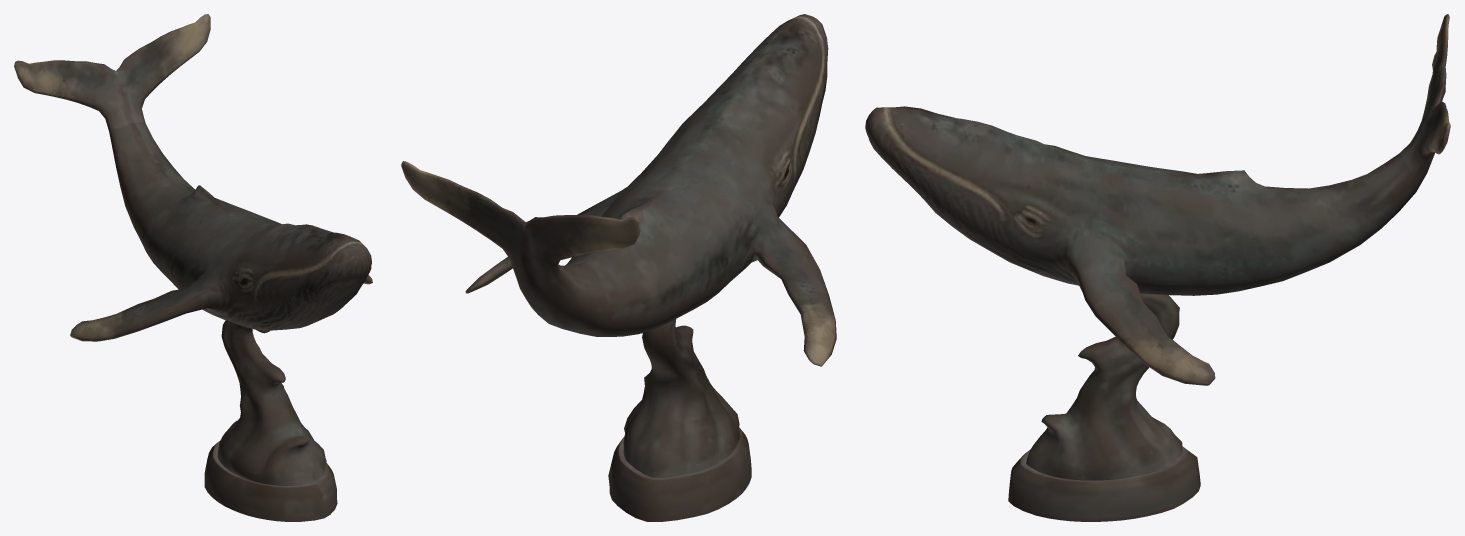
Rendered from whale.glb.
3 views of the same model, side by side, from view 1: azimuth 30°, elevation 25°; view 2: azimuth 150°, elevation 25°; view 3: azimuth 270°, elevation 25° (orthographic). The views are drawn at different scales.
Visible parts, largest first — view 1: bronze_whale_statue; view 2: bronze_whale_statue; view 3: bronze_whale_statue.
Boxes of the visible parts, x1,y1,x2,y2 form: bronze_whale_statue: [14, 14, 372, 521]; bronze_whale_statue: [401, 14, 836, 521]; bronze_whale_statue: [865, 14, 1450, 521].
Size of the model in its own units: 0.932 by 1.07 by 1.37.
Materials: 1 (1 with a texture image).
